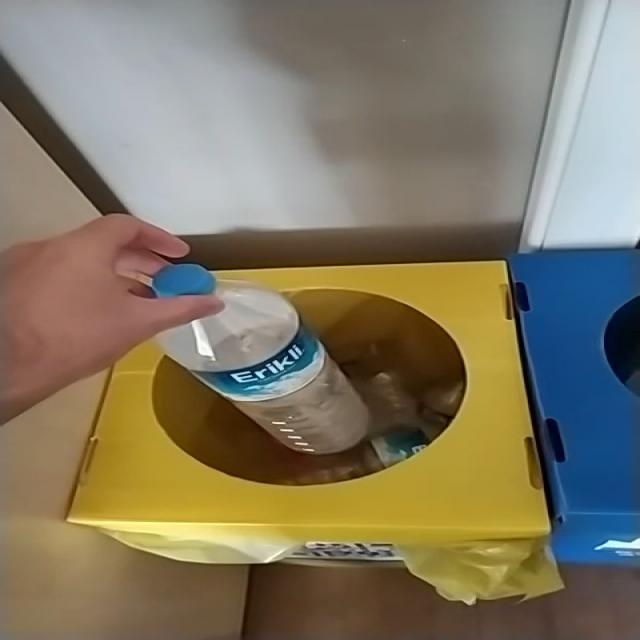plastic: (152, 264, 369, 455)
